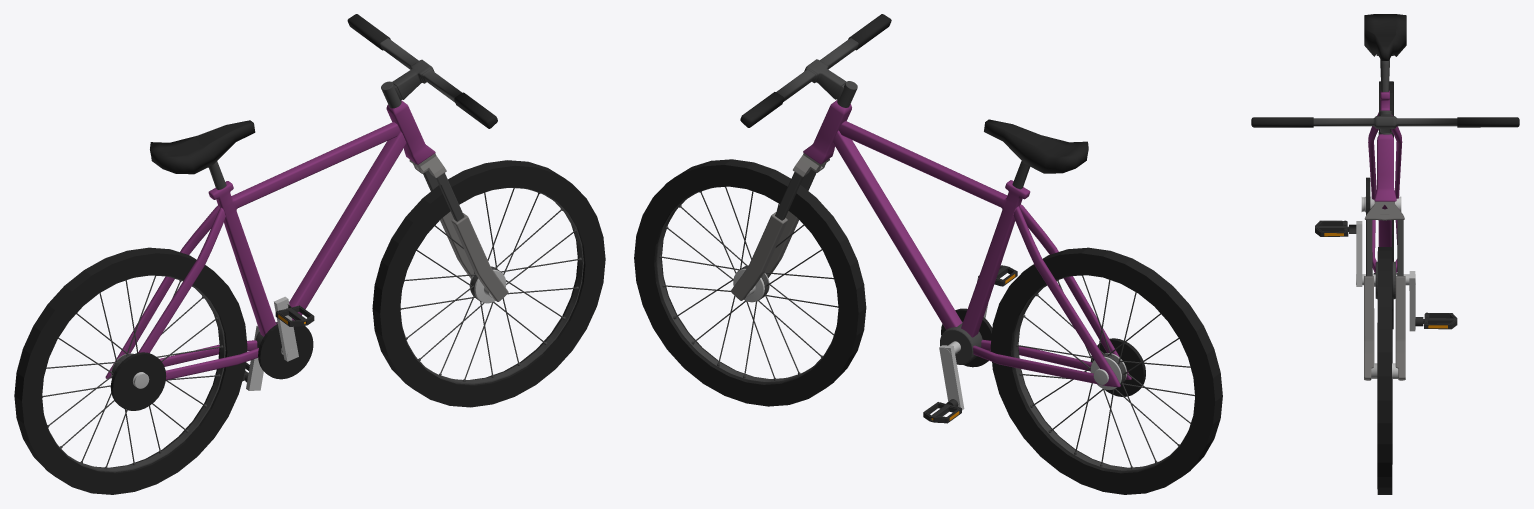
File: MountainBike.fbx
The picture shows the model from 3 angles, left to right: view 1: azimuth 30°, elevation 25°; view 2: azimuth 150°, elevation 25°; view 3: azimuth 270°, elevation 25°; orthographic projection. The views are drawn at different scales.
Visible parts, largest first — view 1: MountainBike; view 2: MountainBike; view 3: MountainBike.
Boxes of the visible parts, box(x1,y1,x2,y2) form: MountainBike: box(14, 14, 605, 494); MountainBike: box(634, 14, 1222, 494); MountainBike: box(1251, 14, 1519, 494).
Size of the model in its own units: 421 by 245 by 176.
